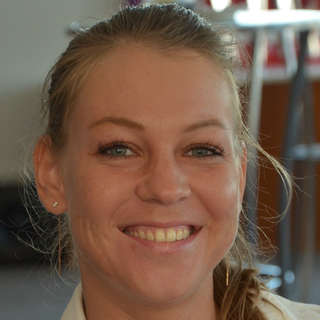eye: (94, 138, 143, 163), (179, 139, 227, 164)
